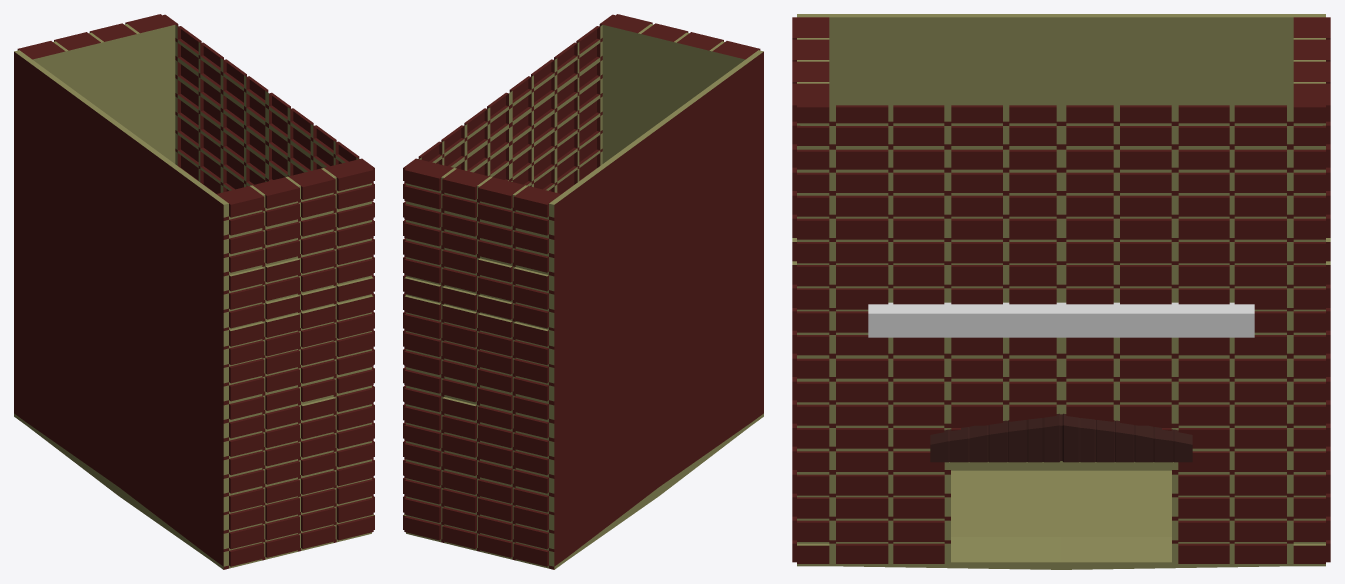
File: newchimney.fbx
The picture shows the model from 3 angles, left to right: view 1: azimuth 30°, elevation 25°; view 2: azimuth 150°, elevation 25°; view 3: azimuth 270°, elevation 25°; orthographic projection. The views are drawn at different scales.
Parts seen in each view (by area): view 1: Cube; view 2: Cube; view 3: Cube, Cube.002, Cube.001.
Boxes of the visible parts, x1,y1,x2,y2 form: Cube: (14, 14, 374, 569); Cube: (403, 14, 763, 569); Cube: (792, 14, 1330, 569); Cube.002: (868, 302, 1254, 337); Cube.001: (930, 413, 1192, 462).
Size of the model in its own units: 1842 by 3871 by 4063.
